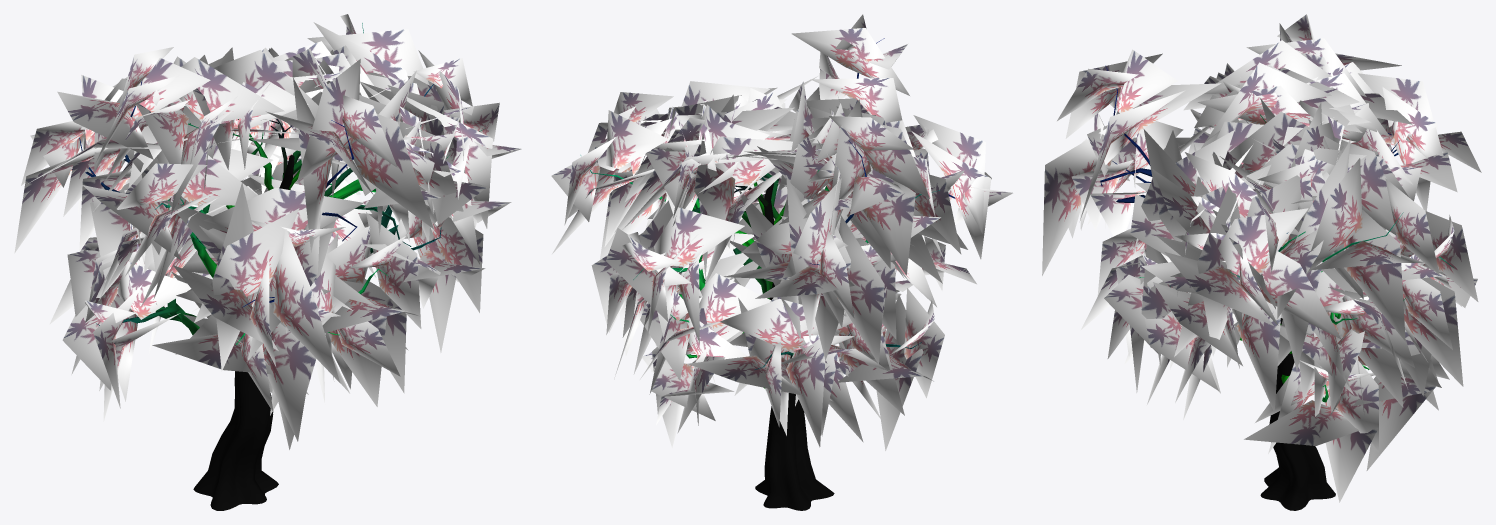
The model's file is TREE_COLD.fbx.
3 views of the same model, side by side, from view 1: azimuth 30°, elevation 25°; view 2: azimuth 150°, elevation 25°; view 3: azimuth 270°, elevation 25° (orthographic). The views are drawn at different scales.
Visible parts, largest first — view 1: Tree_1, Tree_0; view 2: Tree_1, Tree_0; view 3: Tree_1, Tree_0.
Boxes of the visible parts, x1,y1,x2,y2 form: Tree_1: (14,14,521,449); Tree_0: (71,23,485,510); Tree_1: (551,14,1012,450); Tree_0: (580,38,955,510); Tree_1: (1042,14,1481,502); Tree_0: (1100,65,1453,510).
Size of the model in its own units: 658 by 700 by 629.
1 material, 1 textured.
